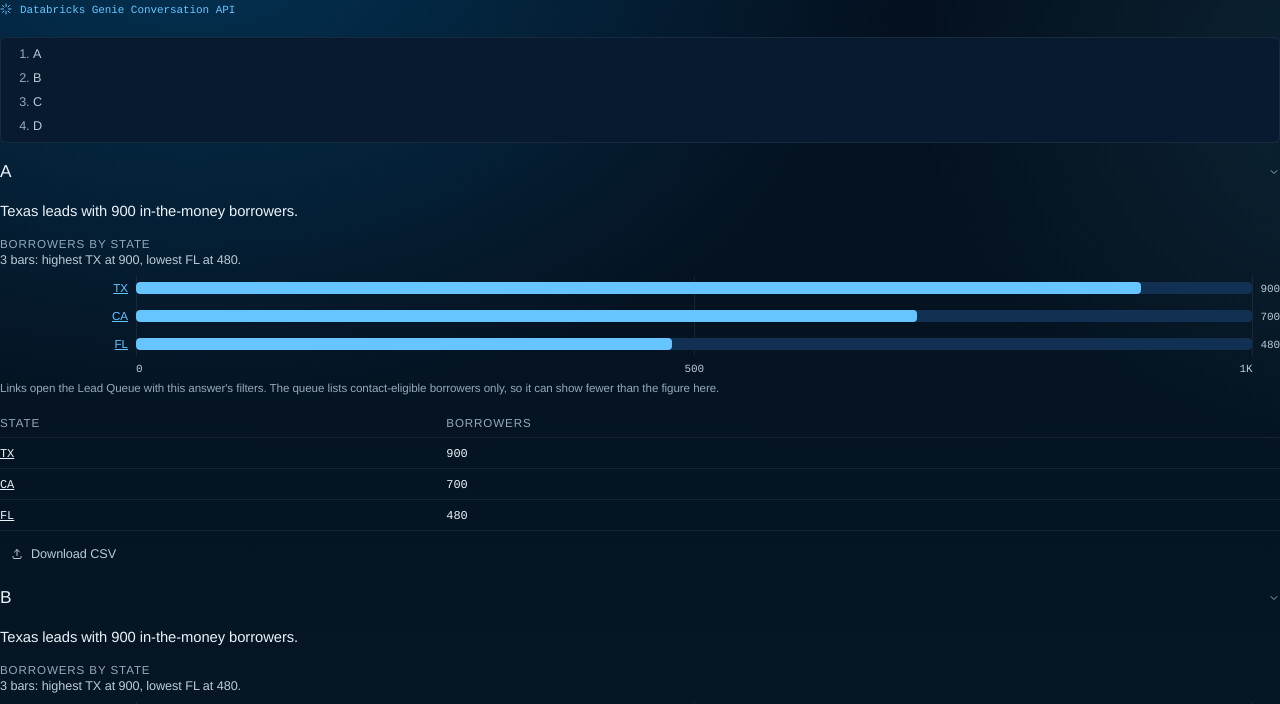
Test case: GenieAnswer deep-research sections › collapses and re-opens a section from its toggle
Click the 2nd button with class "genie-answer__section-toggle". click: [6, 597]
box: [0,586,1279,610]
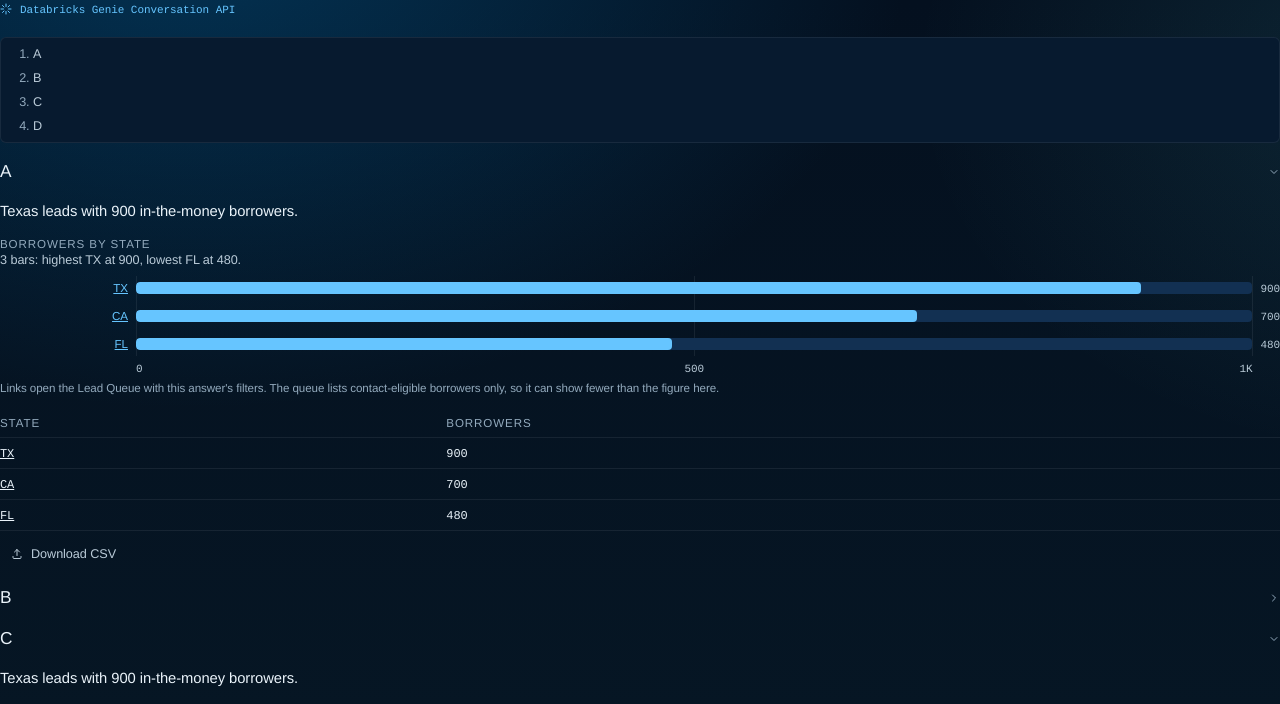
expect the 2nd button with class "genie-answer__section-toggle" is collapsed: met
Click the 2nd button with class "genie-answer__section-toggle". click: [6, 597]
box: [0,586,1279,610]
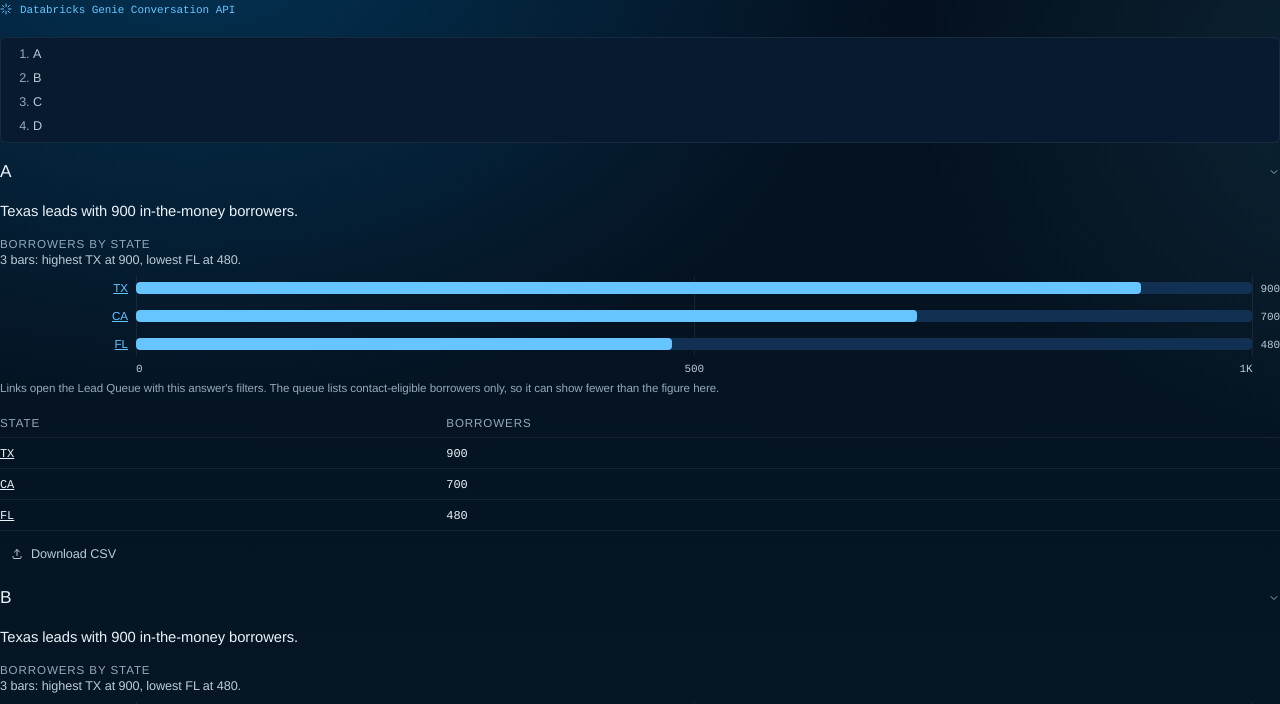
expect the 2nd button with class "genie-answer__section-toggle" is expanded: met, box [0,586,1279,610]
